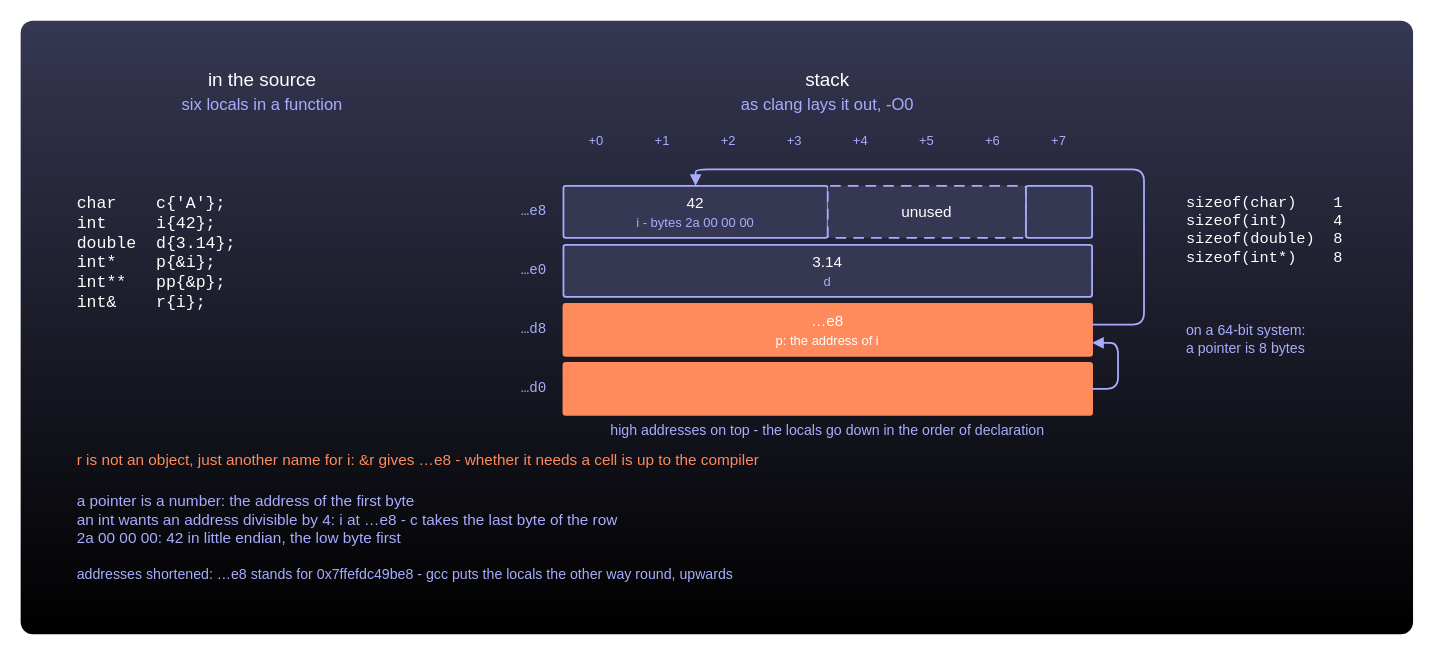
Image size: 1433x654. Some labels were removed from this diagram. The shapes that lost their labels are listed below. From the top down, each one's centre as x and y in pixels, then its label:
point (1058, 211): 'A' c
point (827, 388): …d8 pp: the address of p
